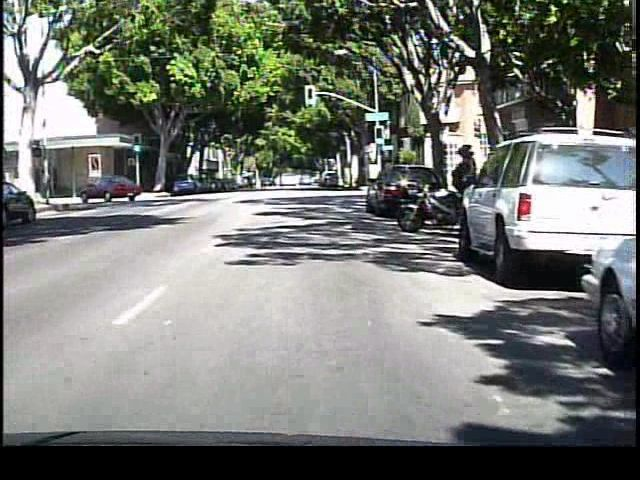person: (446, 133, 490, 241)
